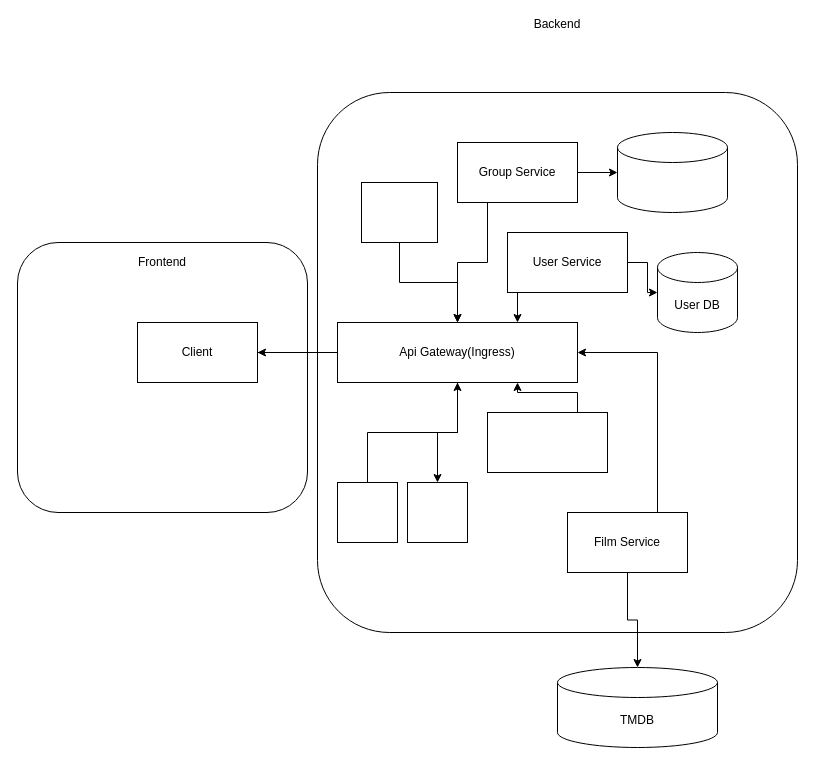
The diagram is 815 pixels wide and 765 high, and some of its shapes have lost their labels. The shapes that lost their labels are listed below. From the top down, each one's centre as x and y in pixels, then its label:
At (x=672, y=172): "Group DV".
At (x=399, y=212): "Web API".
At (x=547, y=442): "Selector service".
At (x=367, y=512): "Web UI".
At (x=437, y=512): "Keycloak".
